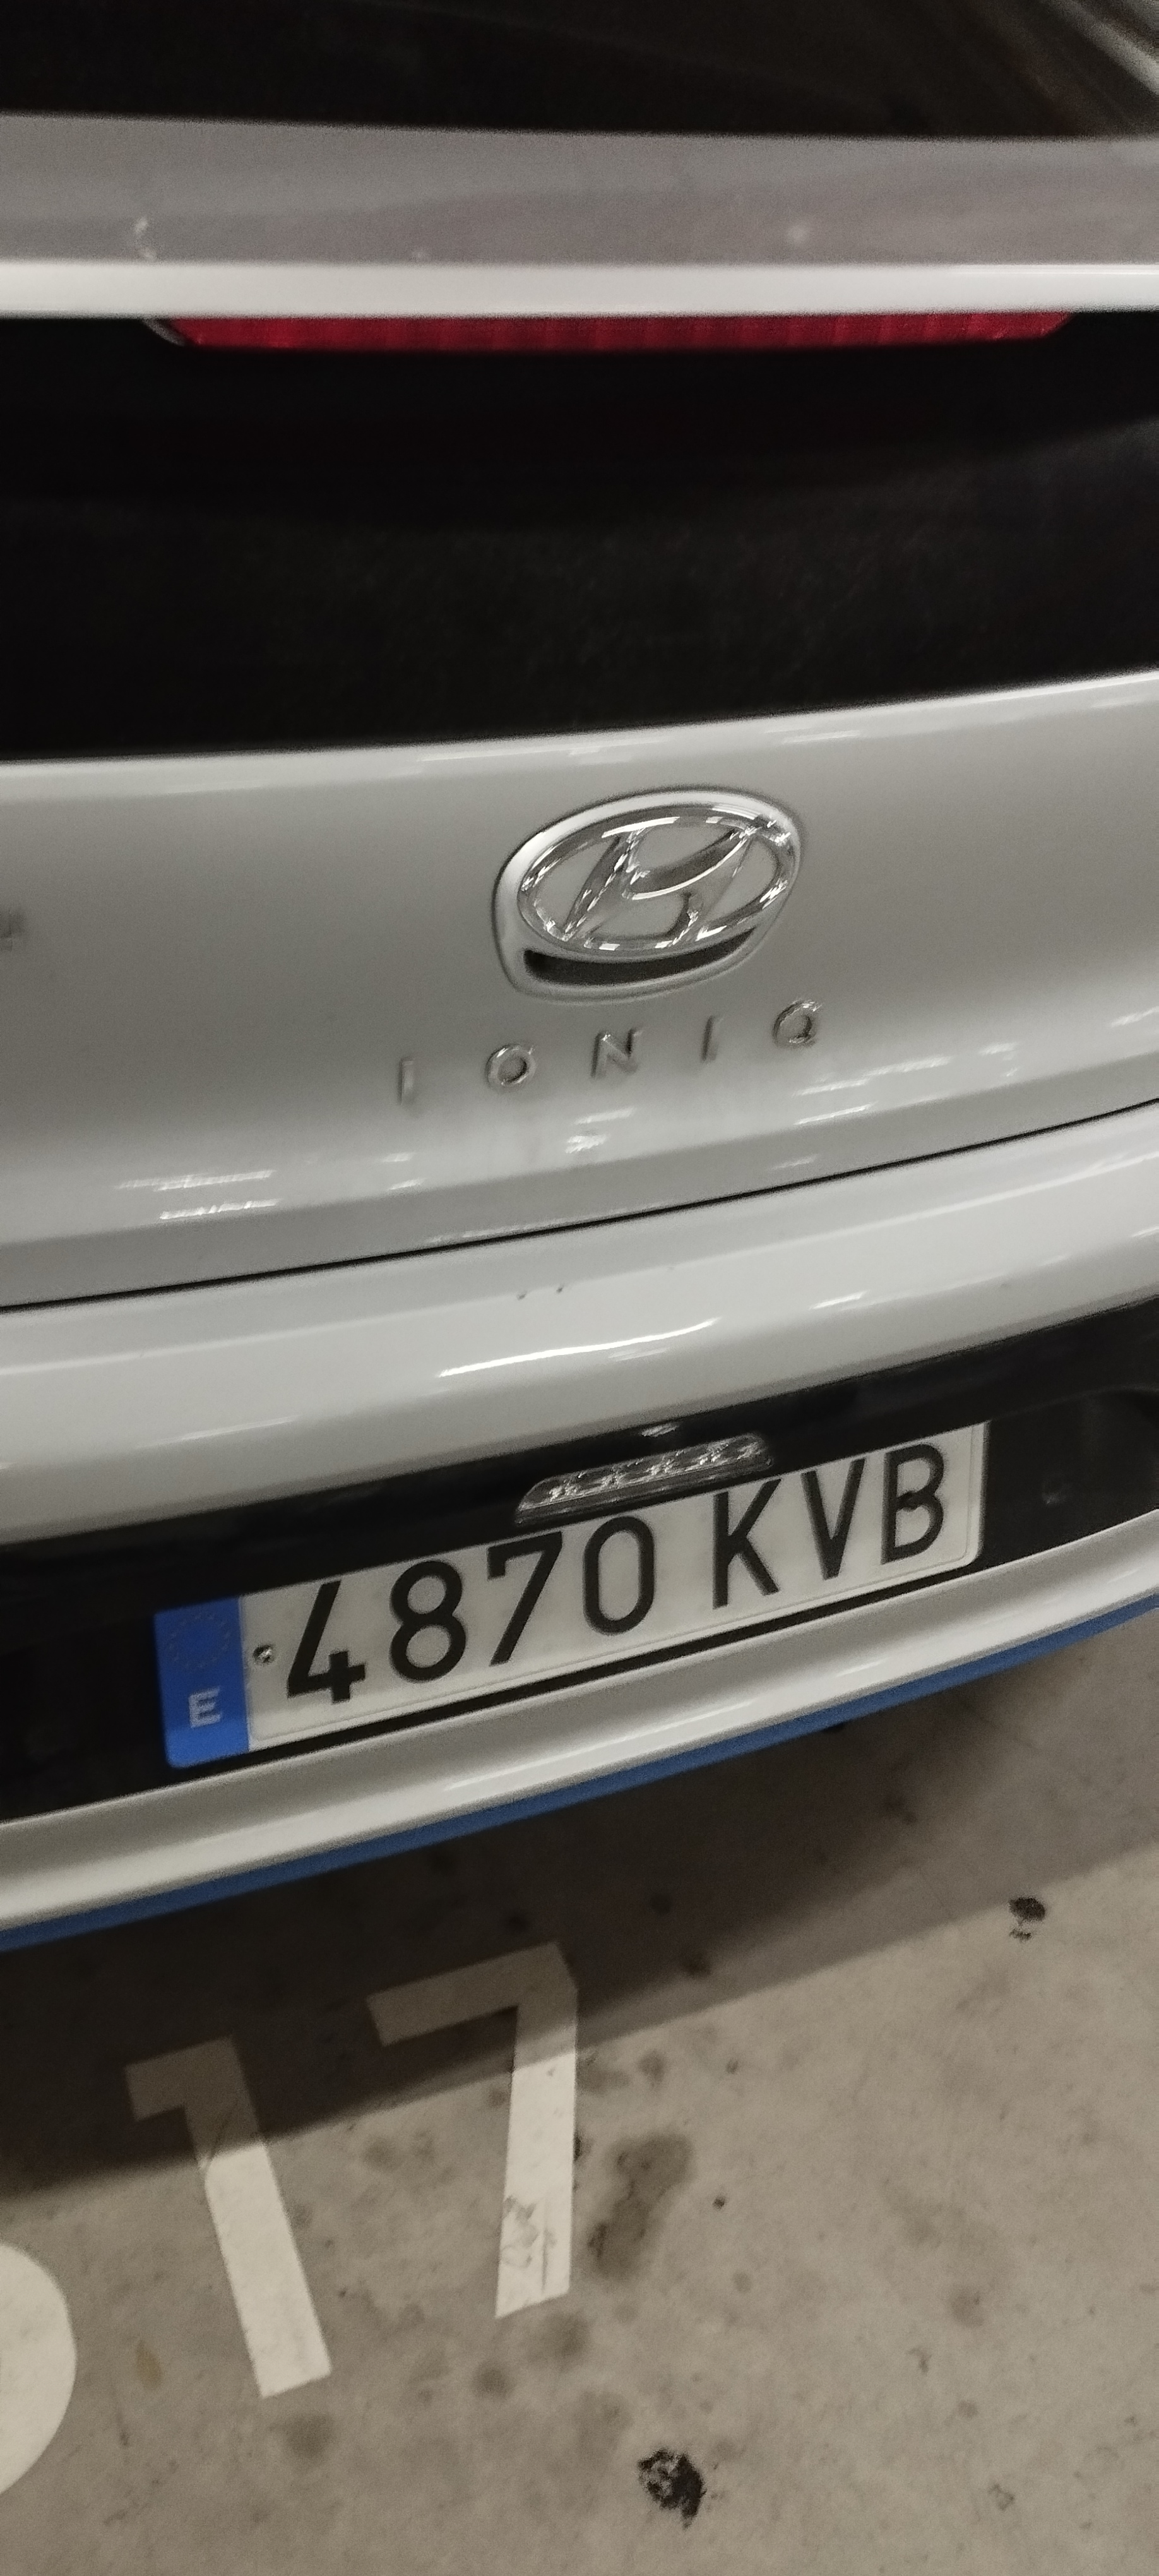Plate: (126, 1626, 1000, 1774)
